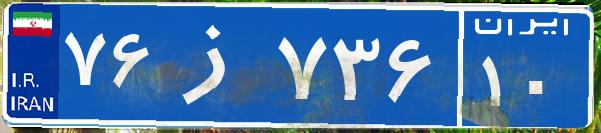0: (525, 38, 570, 115)
1: (475, 38, 525, 113)
3: (330, 28, 385, 110)
6: (385, 28, 445, 110), (110, 28, 158, 105)
7: (273, 28, 330, 110), (57, 26, 110, 107)
ز: (158, 15, 273, 115)
